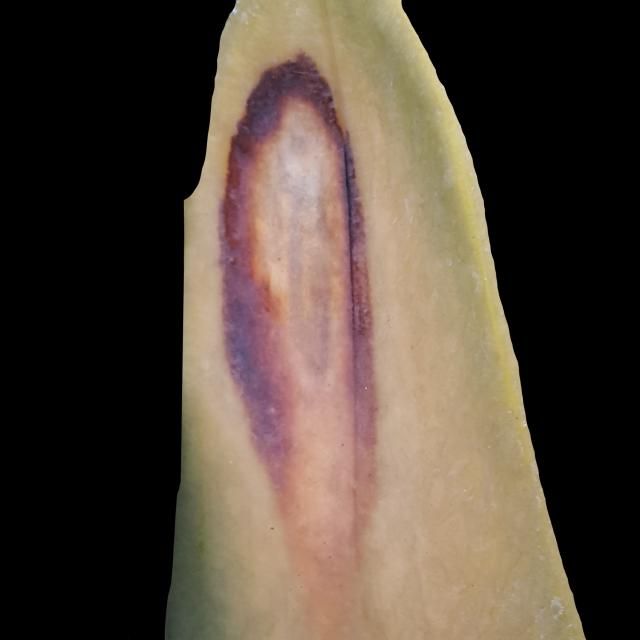mite: (235, 53, 347, 147), (246, 69, 334, 130), (190, 511, 280, 557), (265, 521, 309, 594), (184, 498, 217, 565), (193, 510, 209, 556), (548, 595, 565, 622), (293, 568, 307, 593), (265, 521, 279, 535), (225, 254, 237, 267), (196, 538, 206, 552), (444, 256, 455, 268), (325, 552, 334, 561), (295, 569, 303, 578), (268, 524, 276, 532), (298, 582, 305, 591), (326, 553, 333, 560)
sunburn: (216, 48, 383, 611)
